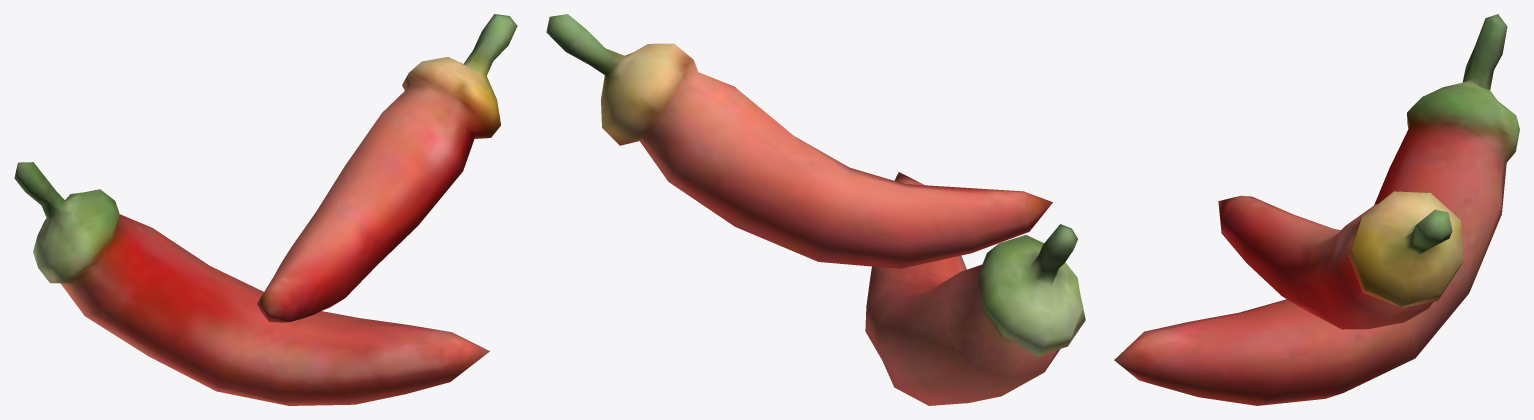
Rendered from chilli.glb.
3 renders of one model, left to right at view 1: azimuth 30°, elevation 25°; view 2: azimuth 150°, elevation 25°; view 3: azimuth 270°, elevation 25°, orthographic. The views are drawn at different scales.
Parts seen in each view (by area): view 1: Chilli; view 2: Chilli; view 3: Chilli.
Part boxes in pixels (x1,y1,x2,y2): Chilli: (14,14,517,405); Chilli: (546,14,1085,405); Chilli: (1114,14,1519,405).
Bounding box in the file's own units: 2.55 × 1.45 × 1.61.
1 material, 1 textured.
